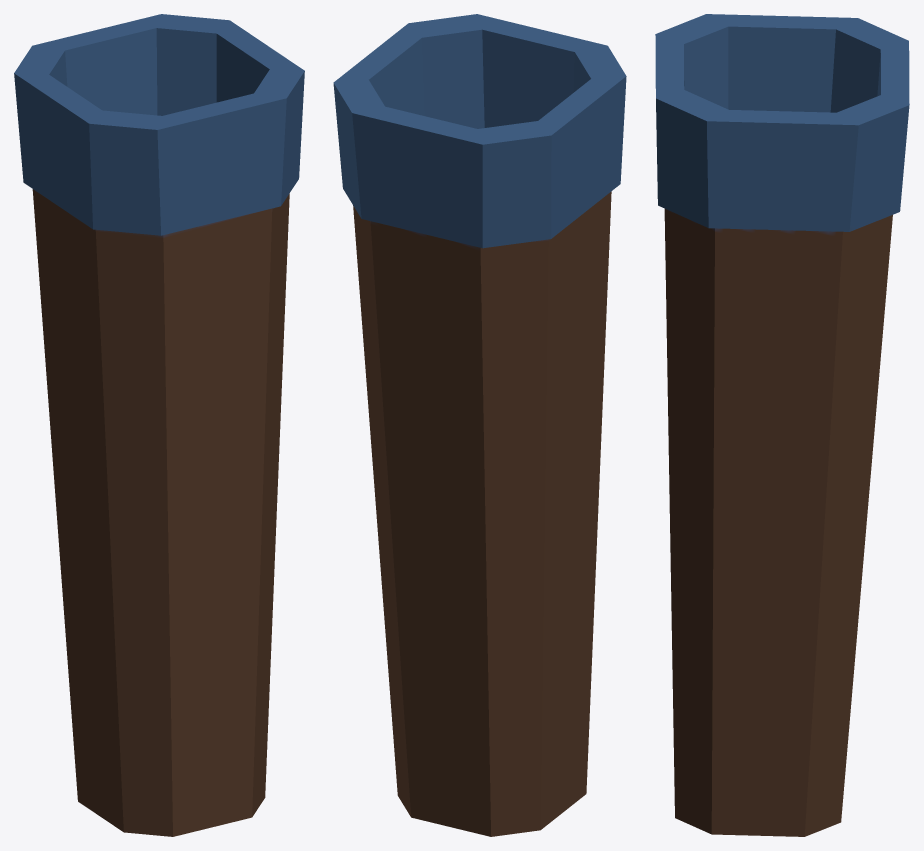
The model's file is Quiver_Blue.fbx.
3 views of the same model, side by side, from view 1: azimuth 30°, elevation 25°; view 2: azimuth 150°, elevation 25°; view 3: azimuth 270°, elevation 25° (orthographic).
Visible parts, largest first — view 1: Quiver_Blue_Baked; view 2: Quiver_Blue_Baked; view 3: Quiver_Blue_Baked.
Part boxes in pixels (x1=…): Quiver_Blue_Baked: x1=14, y1=14, x2=304, y2=836; Quiver_Blue_Baked: x1=333, y1=14, x2=626, y2=836; Quiver_Blue_Baked: x1=655, y1=14, x2=909, y2=836.
Bounding box in the file's own units: 12.64 × 40.43 × 12.63.
Materials: 1 (1 with a texture image).
